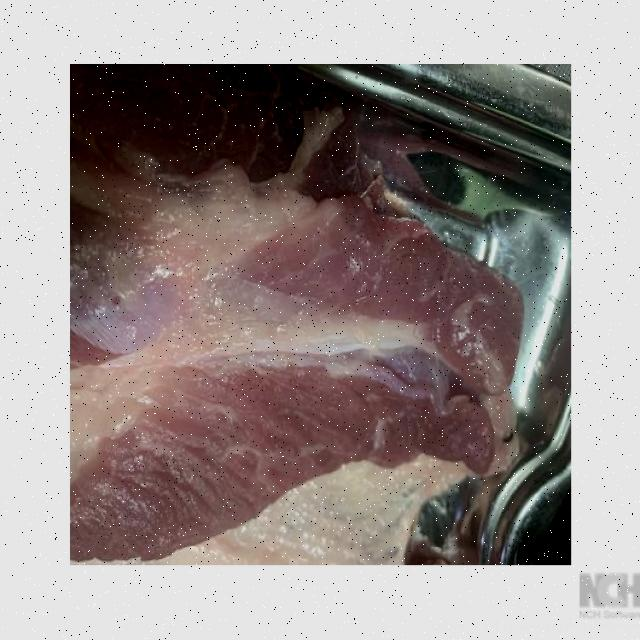rotten meat: (50, 46, 586, 578)
